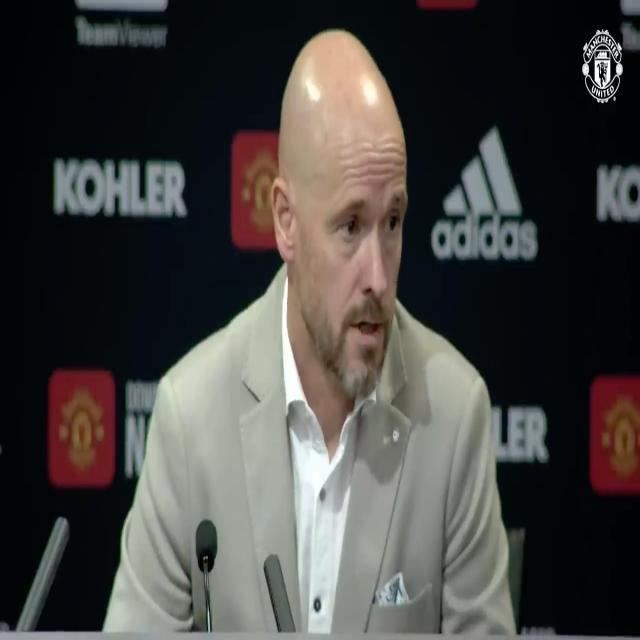Adidas: (429, 123, 544, 262)
Kohler: (55, 159, 187, 218)
TeamViewer: (76, 0, 168, 48)
